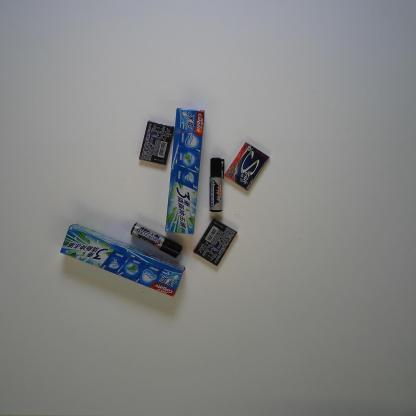Gum: (223, 141, 271, 192), (191, 217, 238, 268), (138, 120, 175, 167)
Personal Hygiene: (57, 223, 187, 300), (164, 106, 206, 237)
Stationery: (129, 221, 183, 259), (208, 155, 225, 214)
